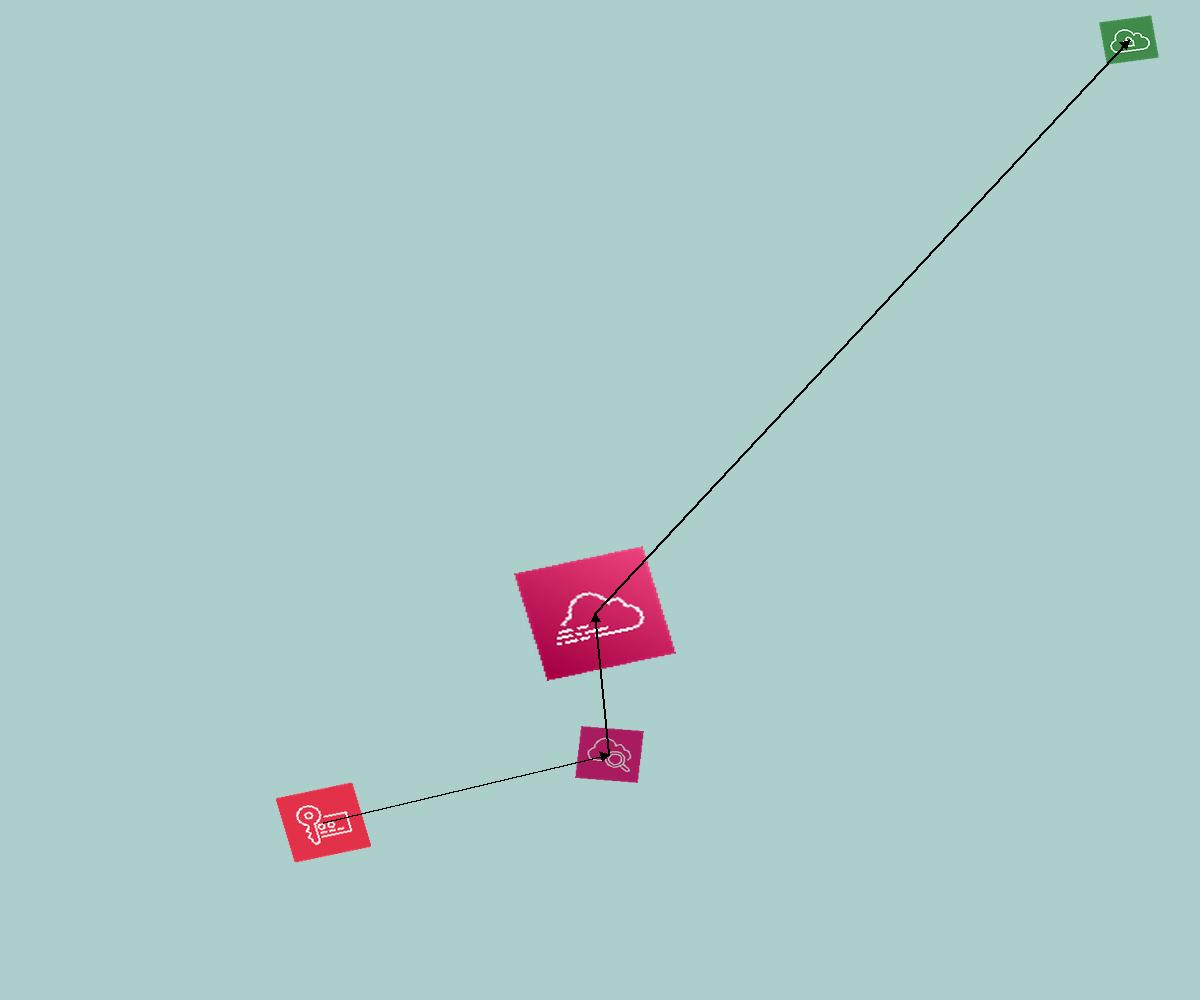AWS-CloudTrail: (514, 546, 676, 681)
AWS-CloudWatch: (575, 726, 644, 783)
AWS-Key-Management-Service: (275, 782, 372, 863)
AWS-Private_vpc: (1099, 15, 1159, 65)
